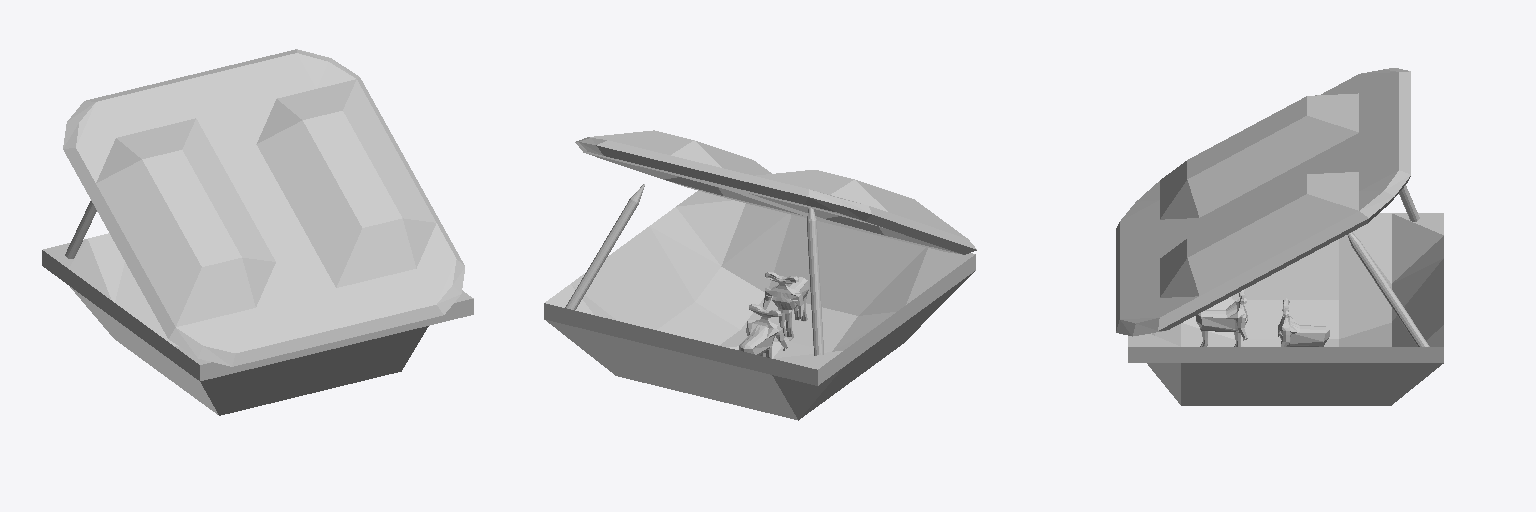
Rendered from HoundPit1.obj.
The picture shows the model from 3 angles: view 1: azimuth 30°, elevation 25°; view 2: azimuth 150°, elevation 25°; view 3: azimuth 270°, elevation 25°; orthographic projection.
Visible parts, largest first — view 1: Cube.001, Cube, Cube.002; view 2: Cube, Cube.001, Cube.005, Cube.002, Cube.004, Cube.003; view 3: Cube.001, Cube, Cube.005, Cube.003, Cube.004.
Part boxes in pixels (x1,y1,x2,y2): Cube.001: (63,49,464,366); Cube: (42,233,473,415); Cube.002: (65,201,96,258); Cube: (544,191,975,420); Cube.001: (575,130,976,254); Cube.005: (763,272,808,341); Cube.002: (807,208,823,355); Cube.004: (739,304,787,358); Cube.003: (565,184,644,309); Cube.001: (1116,68,1410,336); Cube: (1128,213,1443,405); Cube.005: (1196,289,1247,346); Cube.003: (1347,232,1429,346); Cube.004: (1278,298,1329,346).
Size of the model in its own units: 9.36 by 8.12 by 8.95.